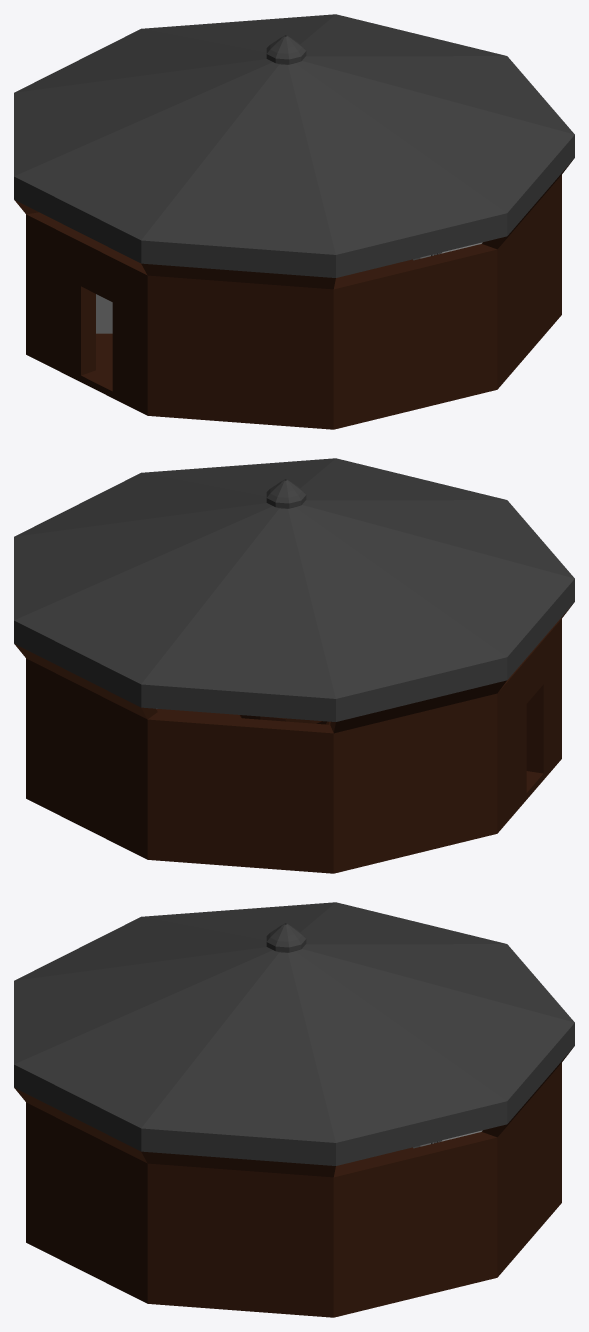
Rendered from bestcell.fbx.
3 views of the same model, one above another, from view 1: azimuth 30°, elevation 25°; view 2: azimuth 150°, elevation 25°; view 3: azimuth 270°, elevation 25° (orthographic).
Parts seen in each view (by area): view 1: exterior, cell1.009; view 2: exterior; view 3: exterior.
Boxes of the visible parts, x1=… form: exterior: x1=14, y1=14, x2=574, y2=429; cell1.009: x1=96, y1=294, x2=112, y2=333; exterior: x1=14, y1=458, x2=574, y2=873; exterior: x1=14, y1=902, x2=574, y2=1317.
Bounding box in the file's own units: 13161 × 7106 × 12961.
